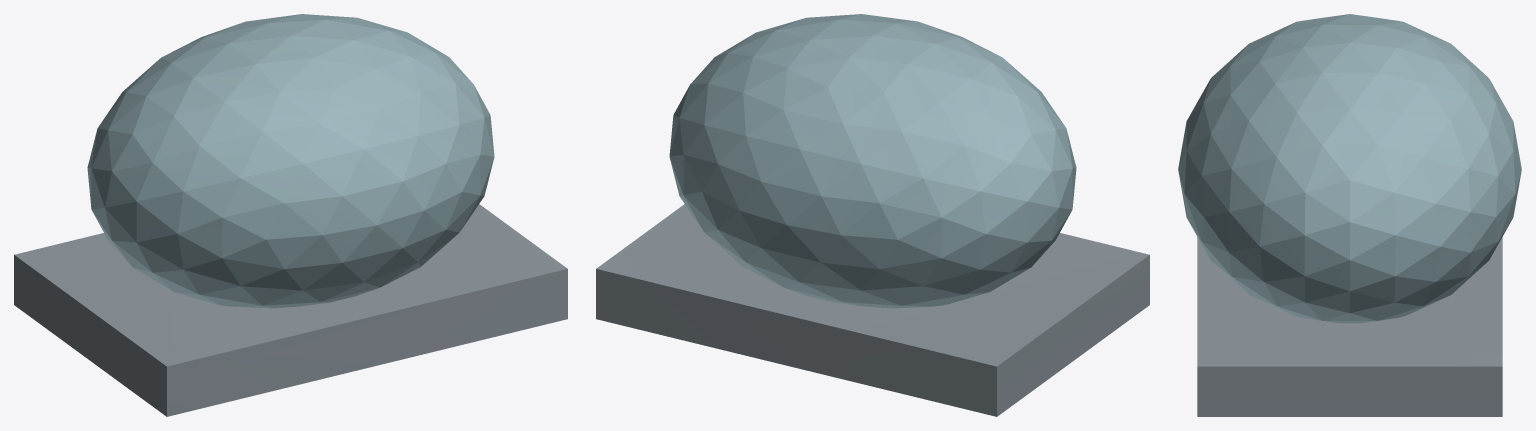
File: greenhouse-07.glb
The picture shows the model from 3 angles, left to right: view 1: azimuth 30°, elevation 25°; view 2: azimuth 150°, elevation 25°; view 3: azimuth 270°, elevation 25°; orthographic projection.
Parts seen in each view (by area): view 1: world; view 2: world; view 3: world.
Boxes of the visible parts, x1,y1,x2,y2 form: world: (14, 14, 567, 416); world: (596, 14, 1149, 416); world: (1178, 14, 1521, 416).
Bounding box in the file's own units: 1.67 × 1.1 × 1.24.
